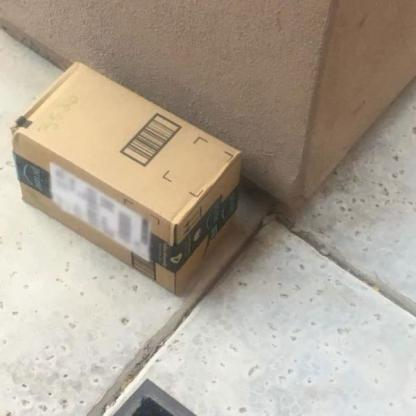package: (9, 62, 244, 298)
